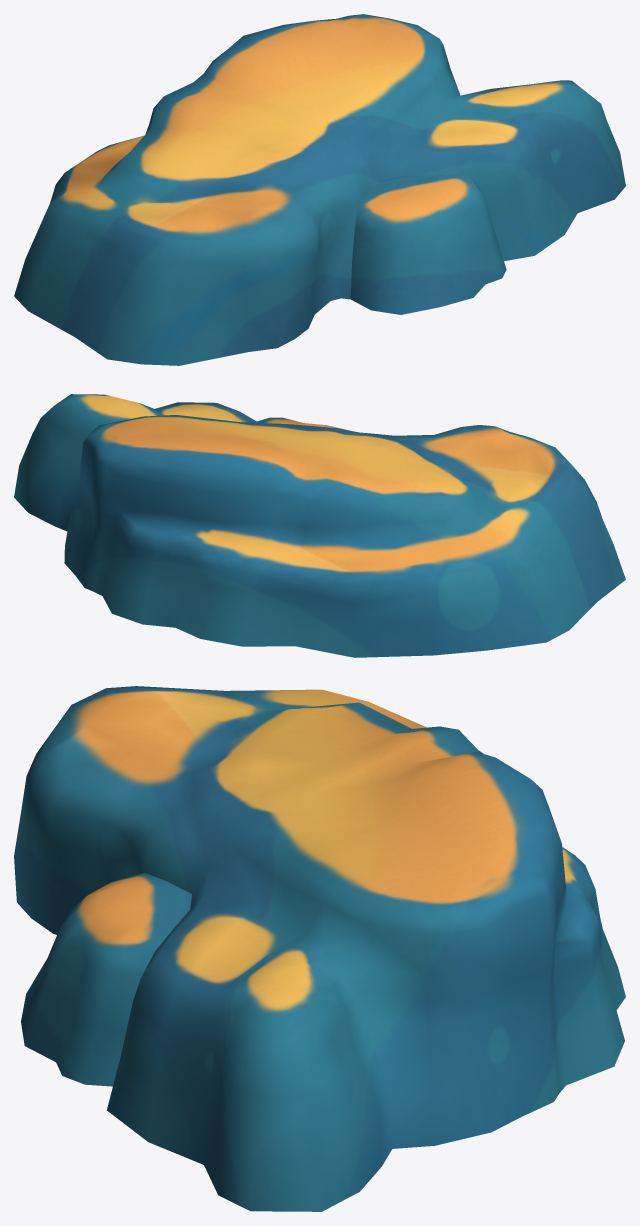
The picture shows the model from 3 angles, top to bottom: view 1: azimuth 30°, elevation 25°; view 2: azimuth 150°, elevation 25°; view 3: azimuth 270°, elevation 25°; orthographic projection. The views are drawn at different scales.
Visible parts, largest first — view 1: wk_s02_57; view 2: wk_s02_57; view 3: wk_s02_57.
Part boxes in pixels (x1=…): wk_s02_57: x1=14, y1=14, x2=625, y2=365; wk_s02_57: x1=14, y1=394, x2=625, y2=657; wk_s02_57: x1=14, y1=686, x2=625, y2=1211.
Size of the model in its own units: 10.57 by 6.56 by 2.74.
